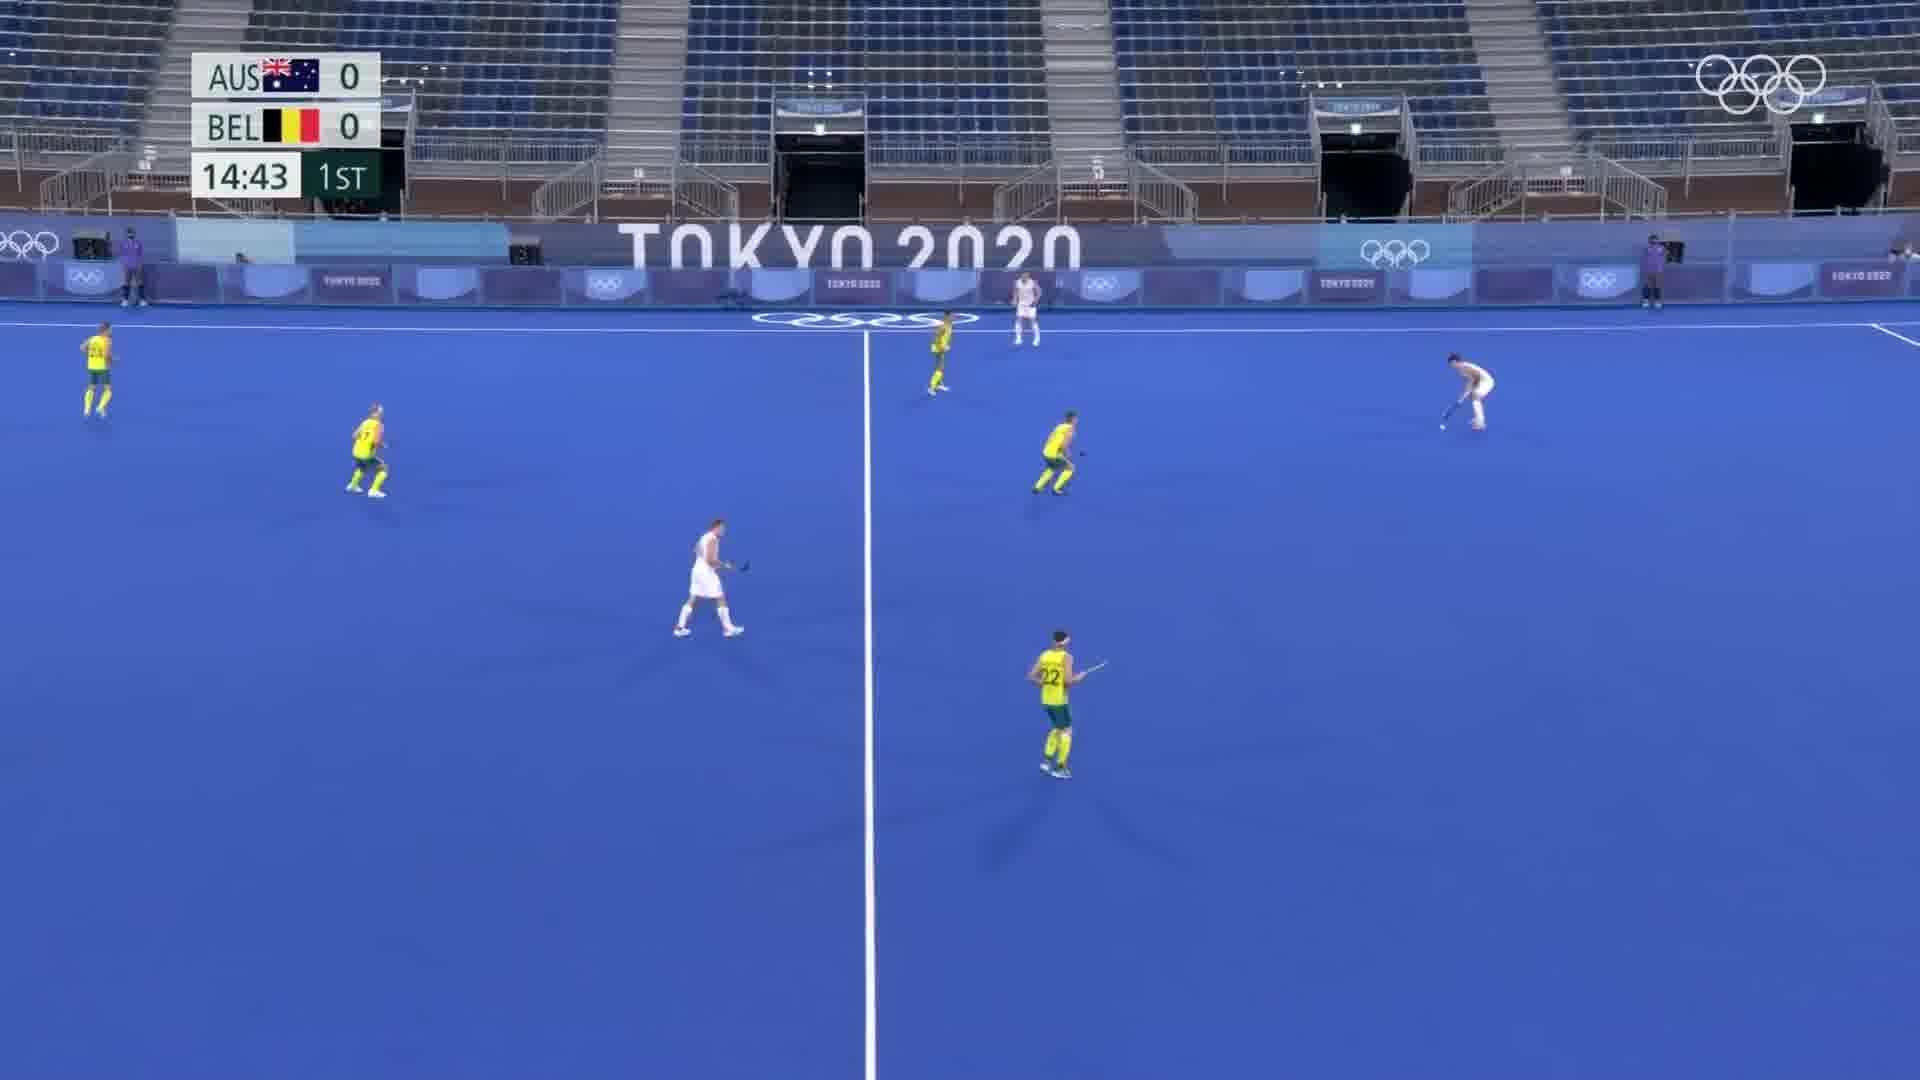ball: (1432, 409, 1458, 443)
